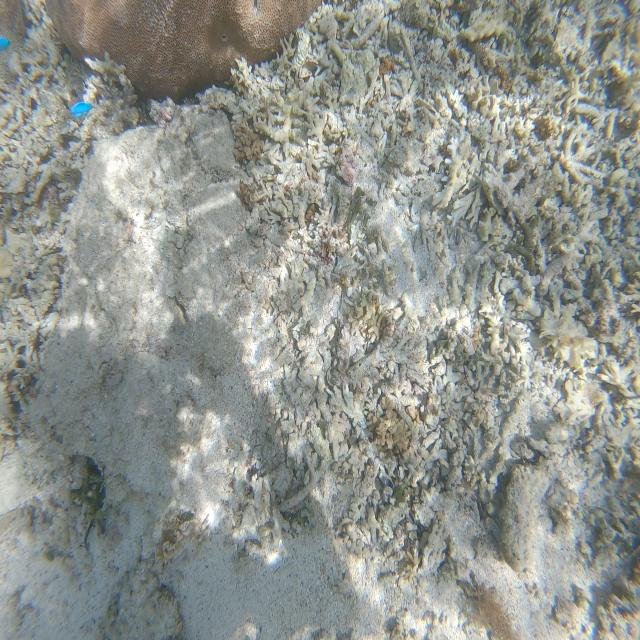rurisuzumedai: (70, 101, 91, 117), (0, 36, 9, 50)
